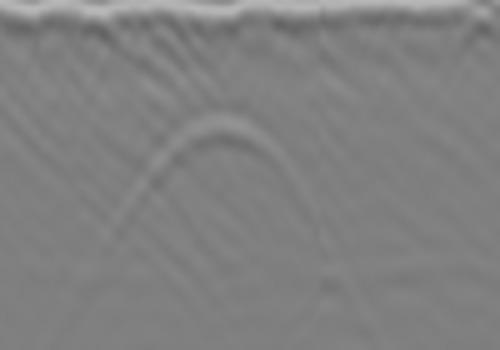hyperbola: (122, 106, 309, 215)
